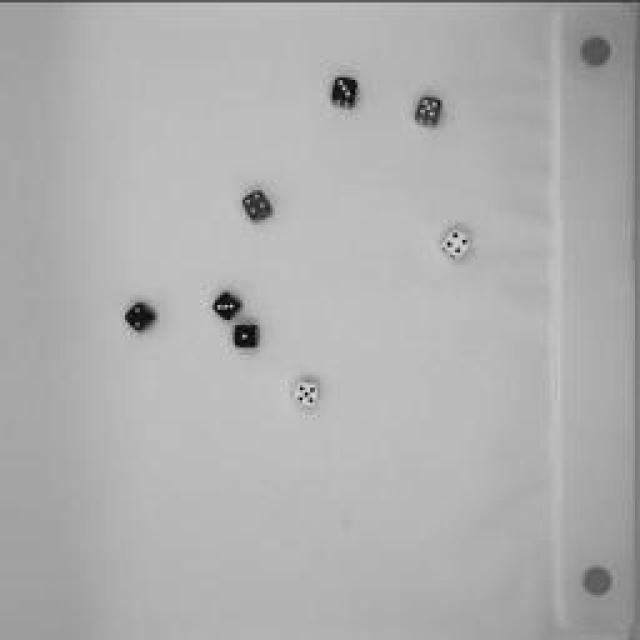dice_1: (231, 320, 264, 350)
dice_2: (122, 299, 156, 336)
dice_3: (208, 288, 244, 322), (328, 75, 362, 110)
dice_4: (436, 225, 474, 263), (239, 188, 276, 222)
dice_5: (407, 91, 445, 129), (290, 372, 325, 408)
